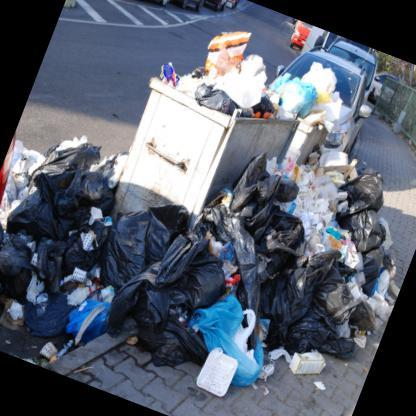Garbage: (142, 106, 415, 415), (164, 230, 366, 415), (20, 209, 192, 392), (0, 135, 86, 324), (159, 21, 279, 113), (219, 194, 315, 302), (211, 316, 330, 401), (242, 268, 322, 366), (271, 58, 366, 134), (30, 115, 108, 188), (176, 337, 246, 415), (100, 259, 154, 336), (338, 222, 392, 299), (337, 158, 393, 228), (286, 166, 340, 234), (0, 229, 42, 316), (283, 58, 337, 118)
